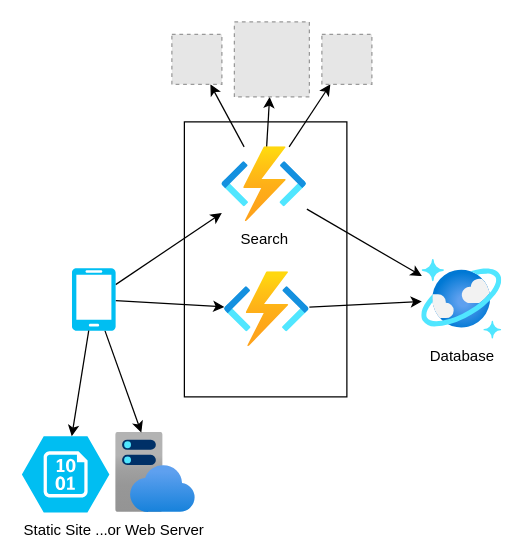
Image size: 523x560. Some labels were removed from this diagram. Grey dashed boxes stand in for pictures. The shapes that lost their labels are listed below. From the top down, each one's box as (x1, y1, x2, y2) in pixels, then its label:
(71, 268, 115, 330): Phone
(224, 271, 309, 346): Save
